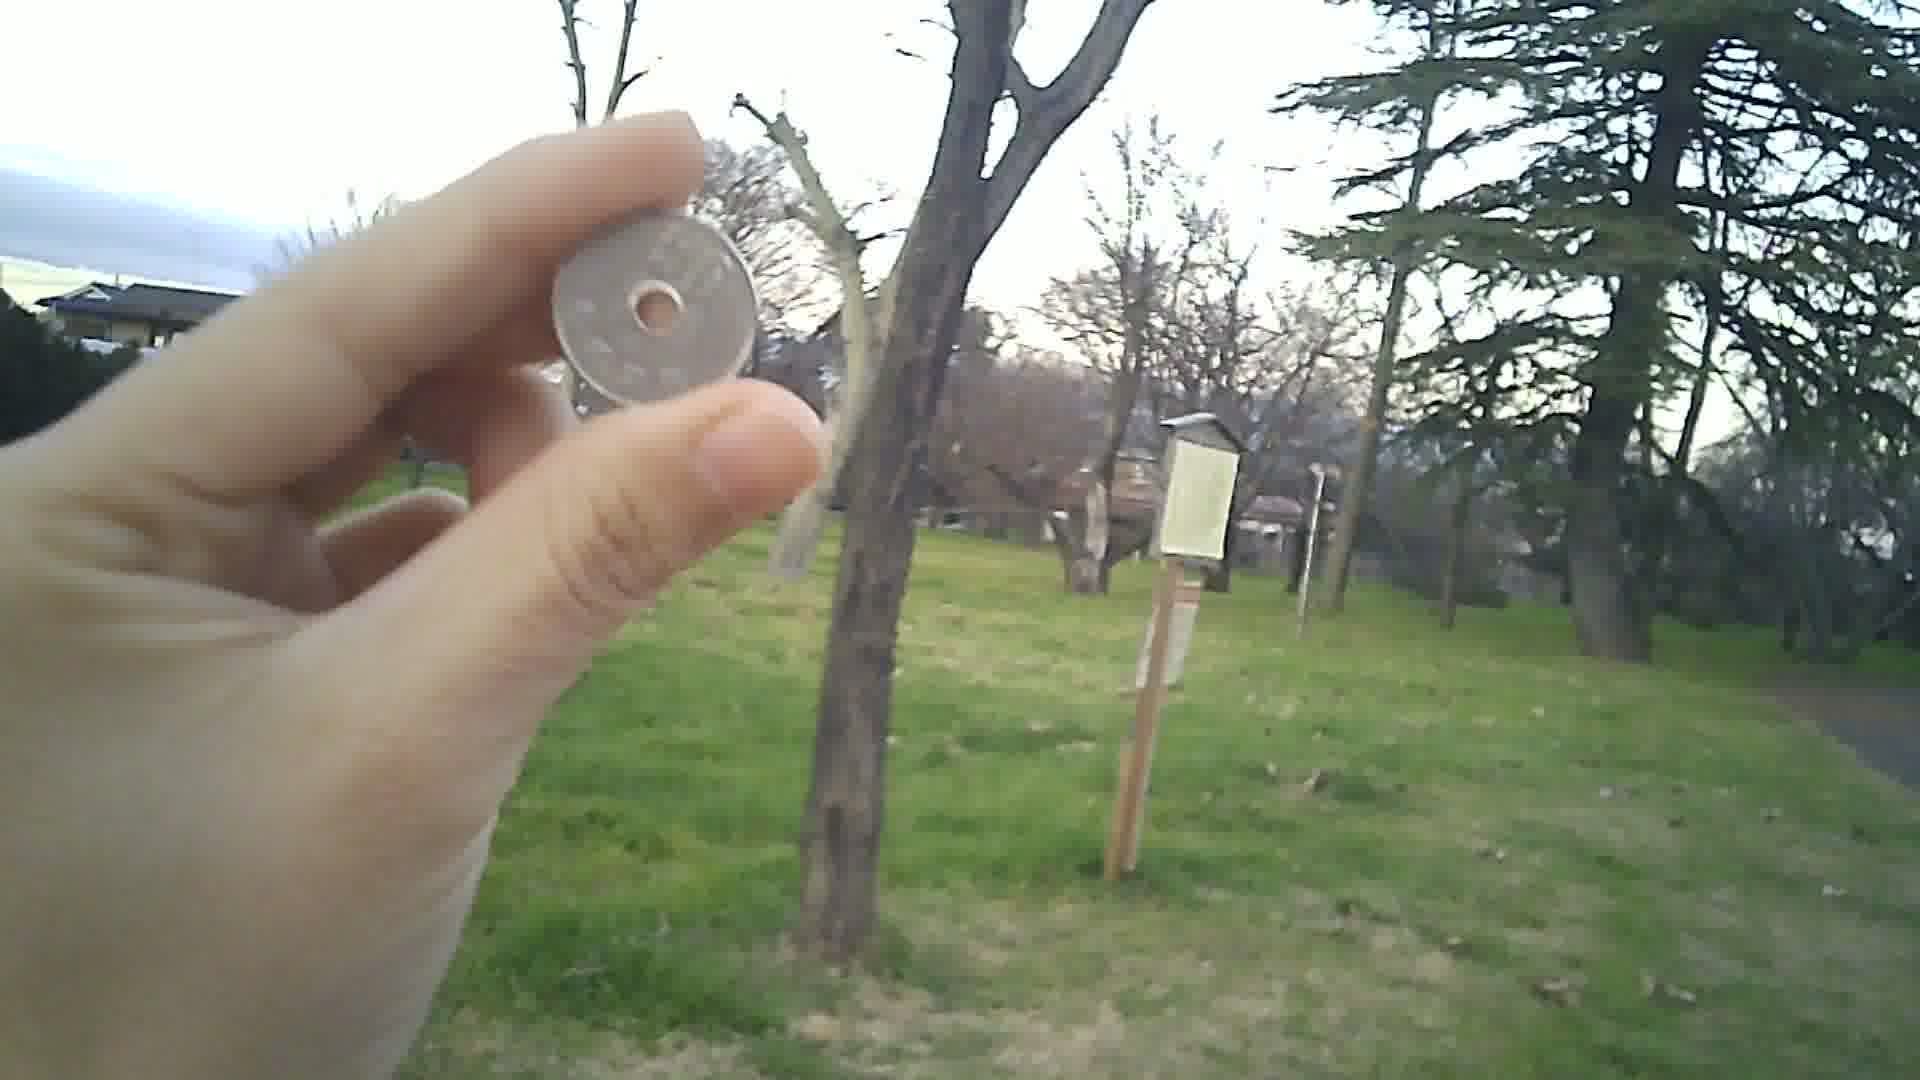50 Yen: (545, 204, 765, 410)
